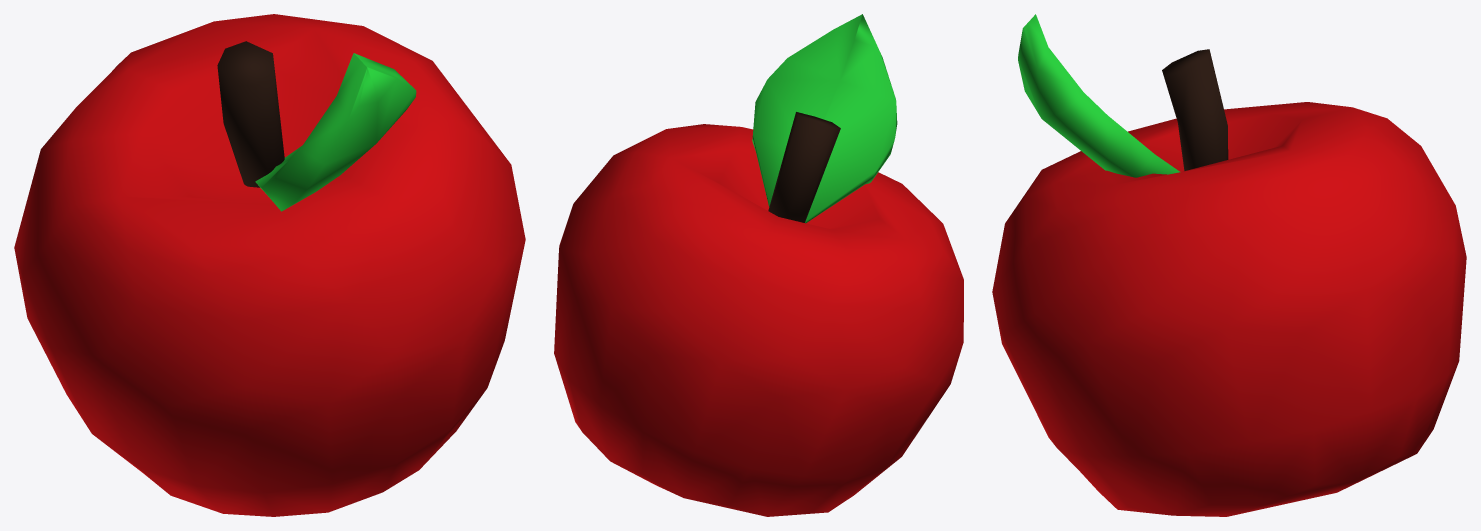
File: apil.obj
The picture shows the model from 3 angles, left to right: view 1: azimuth 30°, elevation 25°; view 2: azimuth 150°, elevation 25°; view 3: azimuth 270°, elevation 25°; orthographic projection. The views are drawn at different scales.
Visible parts, largest first — view 1: Apple; view 2: Apple; view 3: Apple.
Part boxes in pixels (left/top/right/bottom): Apple: left=14, top=14, right=525, bottom=516; Apple: left=554, top=14, right=963, bottom=516; Apple: left=992, top=14, right=1466, bottom=516.
Size of the model in its own units: 0.1841 by 0.2037 by 0.1854.
